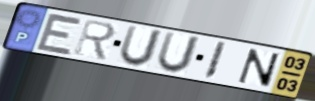E: (34, 11, 85, 57)
I: (201, 40, 229, 82)
N: (236, 47, 281, 90)
R: (72, 17, 118, 63)
U: (117, 23, 166, 69), (154, 30, 204, 75)
